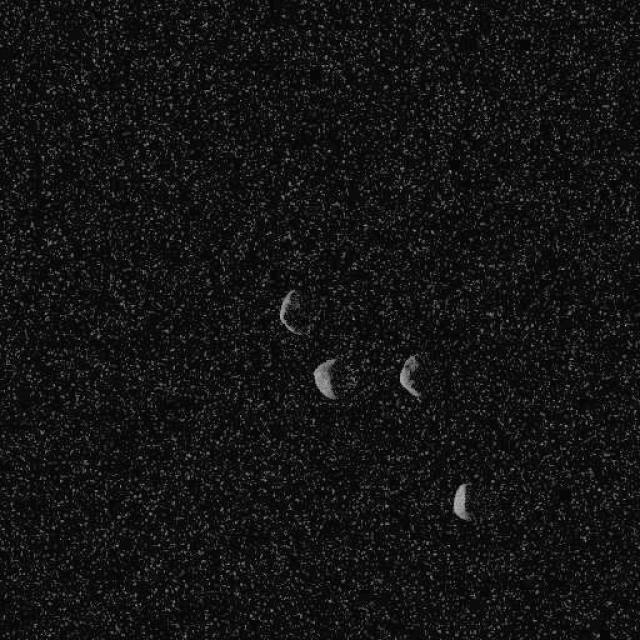D2: (278, 288, 312, 336), (397, 352, 425, 400), (312, 356, 338, 400), (451, 482, 475, 522)
